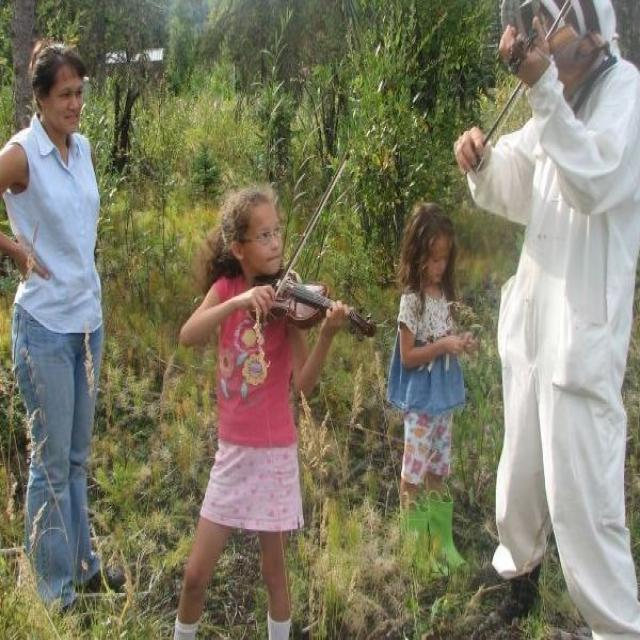violin: (248, 262, 380, 340), (499, 18, 607, 96)
